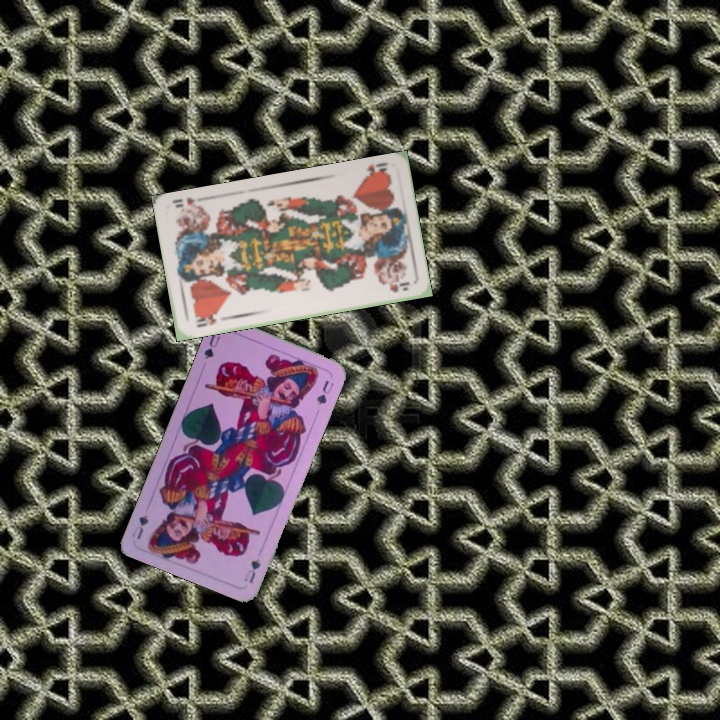GU: (200, 330, 223, 362), (240, 554, 263, 586)
HO: (358, 160, 393, 181), (191, 310, 220, 330)
